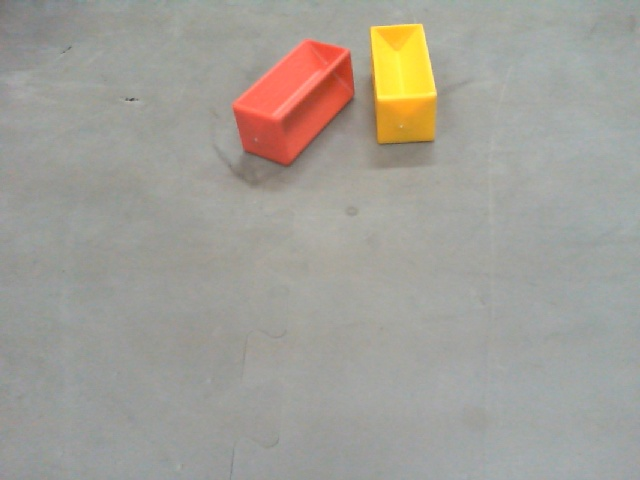RedSample: (234, 41, 355, 164)
YellowSample: (367, 19, 440, 148)
